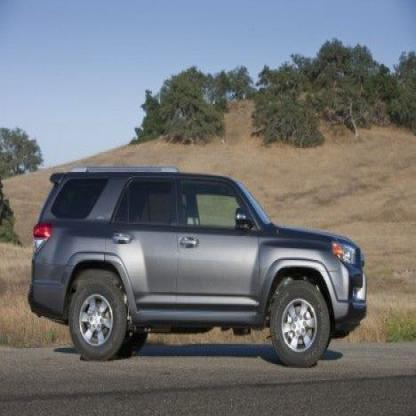Vehicle: (28, 165, 368, 372)
